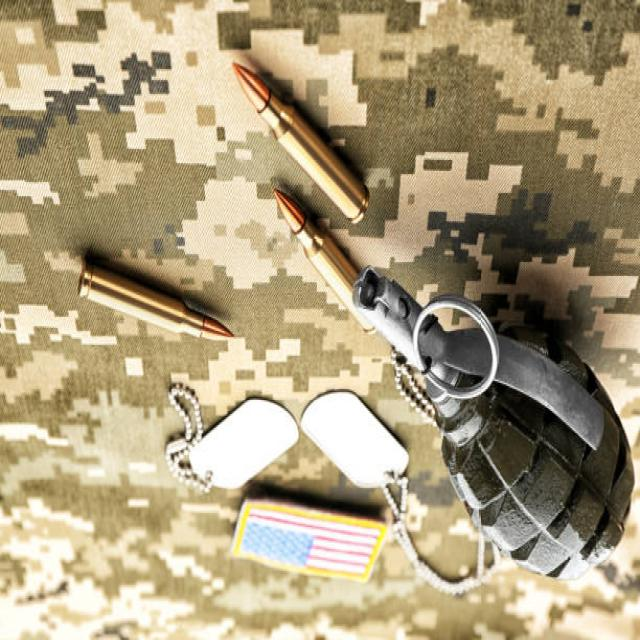grenade: (350, 259, 635, 593)
